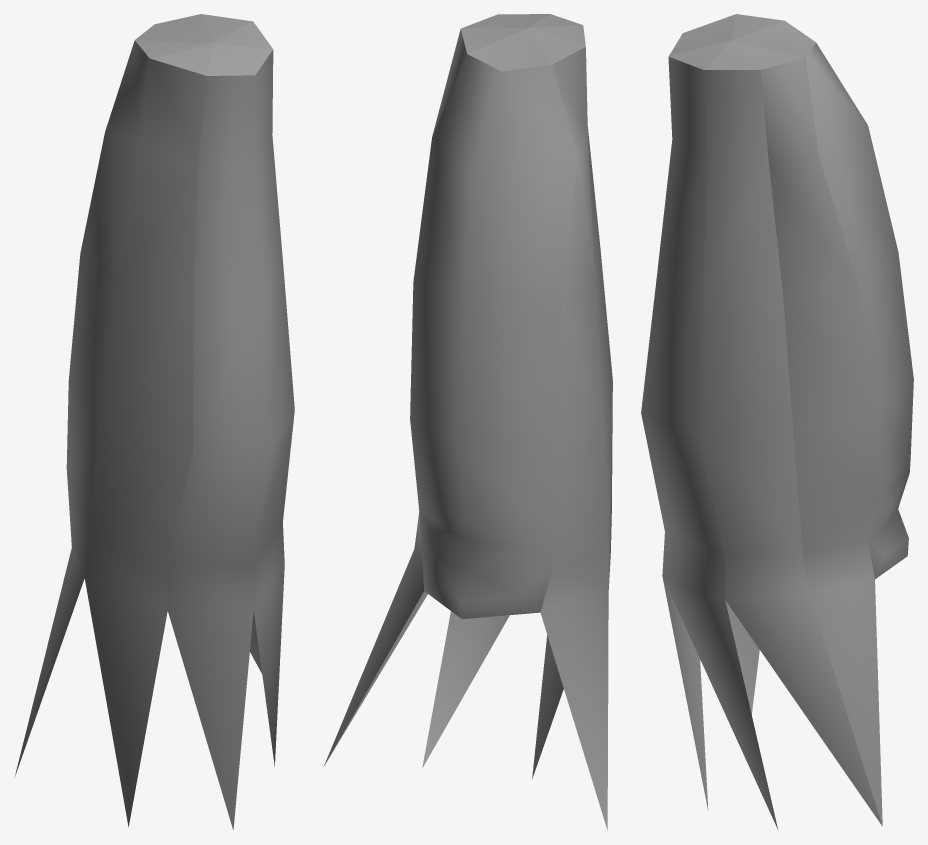
Rendered from left_leg.glb.
3 views of the same model, side by side, from view 1: azimuth 30°, elevation 25°; view 2: azimuth 150°, elevation 25°; view 3: azimuth 270°, elevation 25° (orthographic). The views are drawn at different scales.
Visible parts, largest first — view 1: trousers-grey_LEFT_LEG; view 2: trousers-grey_LEFT_LEG; view 3: trousers-grey_LEFT_LEG.
Part boxes in pixels (bbox=[...]): trousers-grey_LEFT_LEG: bbox=[14, 14, 294, 829]; trousers-grey_LEFT_LEG: bbox=[323, 14, 612, 829]; trousers-grey_LEFT_LEG: bbox=[641, 14, 913, 829].
Bounding box in the file's own units: 0.2272 × 0.6196 × 0.1996.
Materials: 1 (1 with a texture image).
